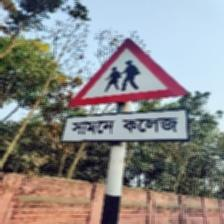College-in-front: (41, 43, 206, 148)
